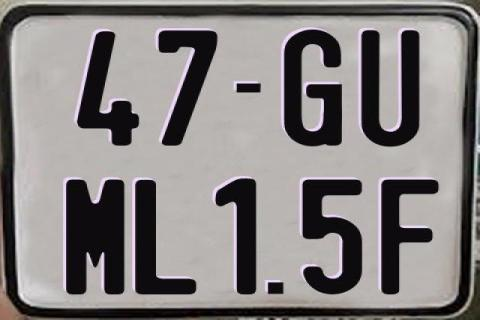0: (74, 31, 142, 149), (299, 177, 363, 296), (158, 29, 223, 144), (214, 176, 260, 292)
F: (380, 177, 440, 293)
G: (283, 27, 344, 144)
L: (135, 178, 196, 296)
M: (66, 178, 128, 296)
U: (360, 31, 419, 151)
